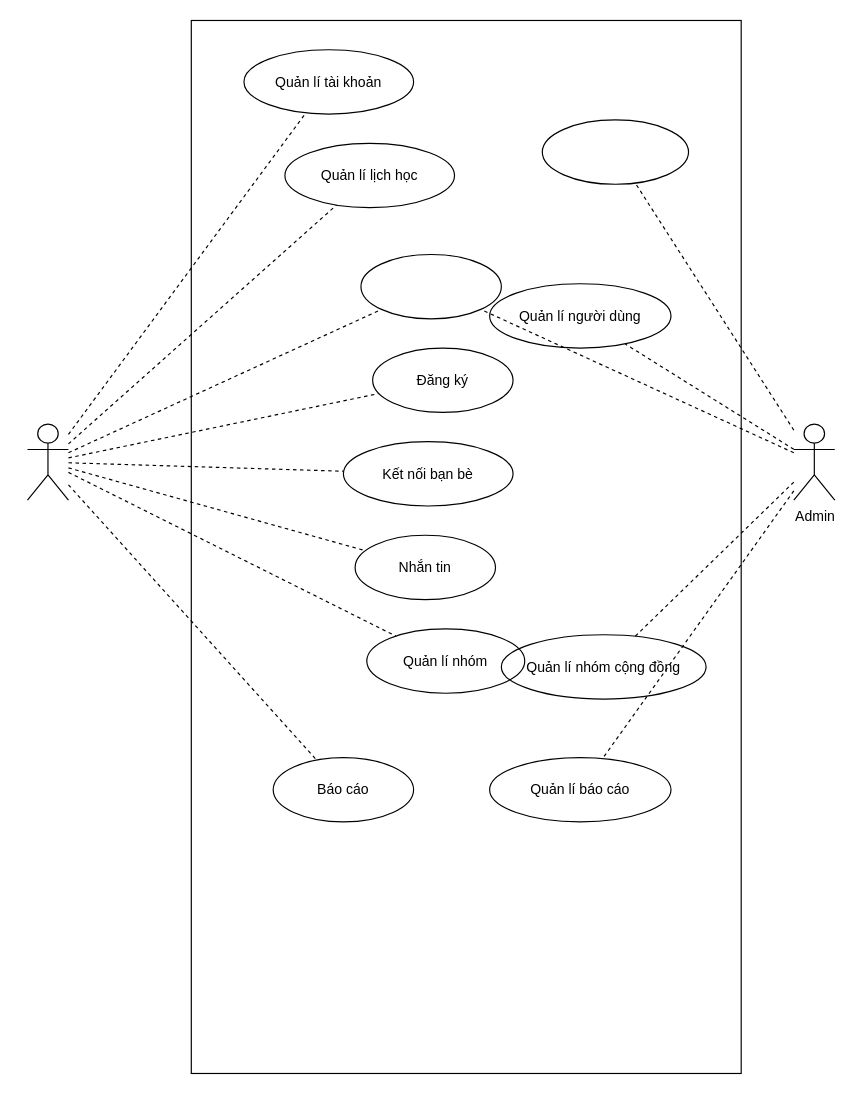
This 855x1094 diagram has some shape labels left out. The shapes that lost their labels are listed below. From the top down, each one's centre as x and y in pixels, then its label:
the point at 615,151: Thống kê
the point at 430,286: Đăng nhập
the point at 47,461: Học sinh
